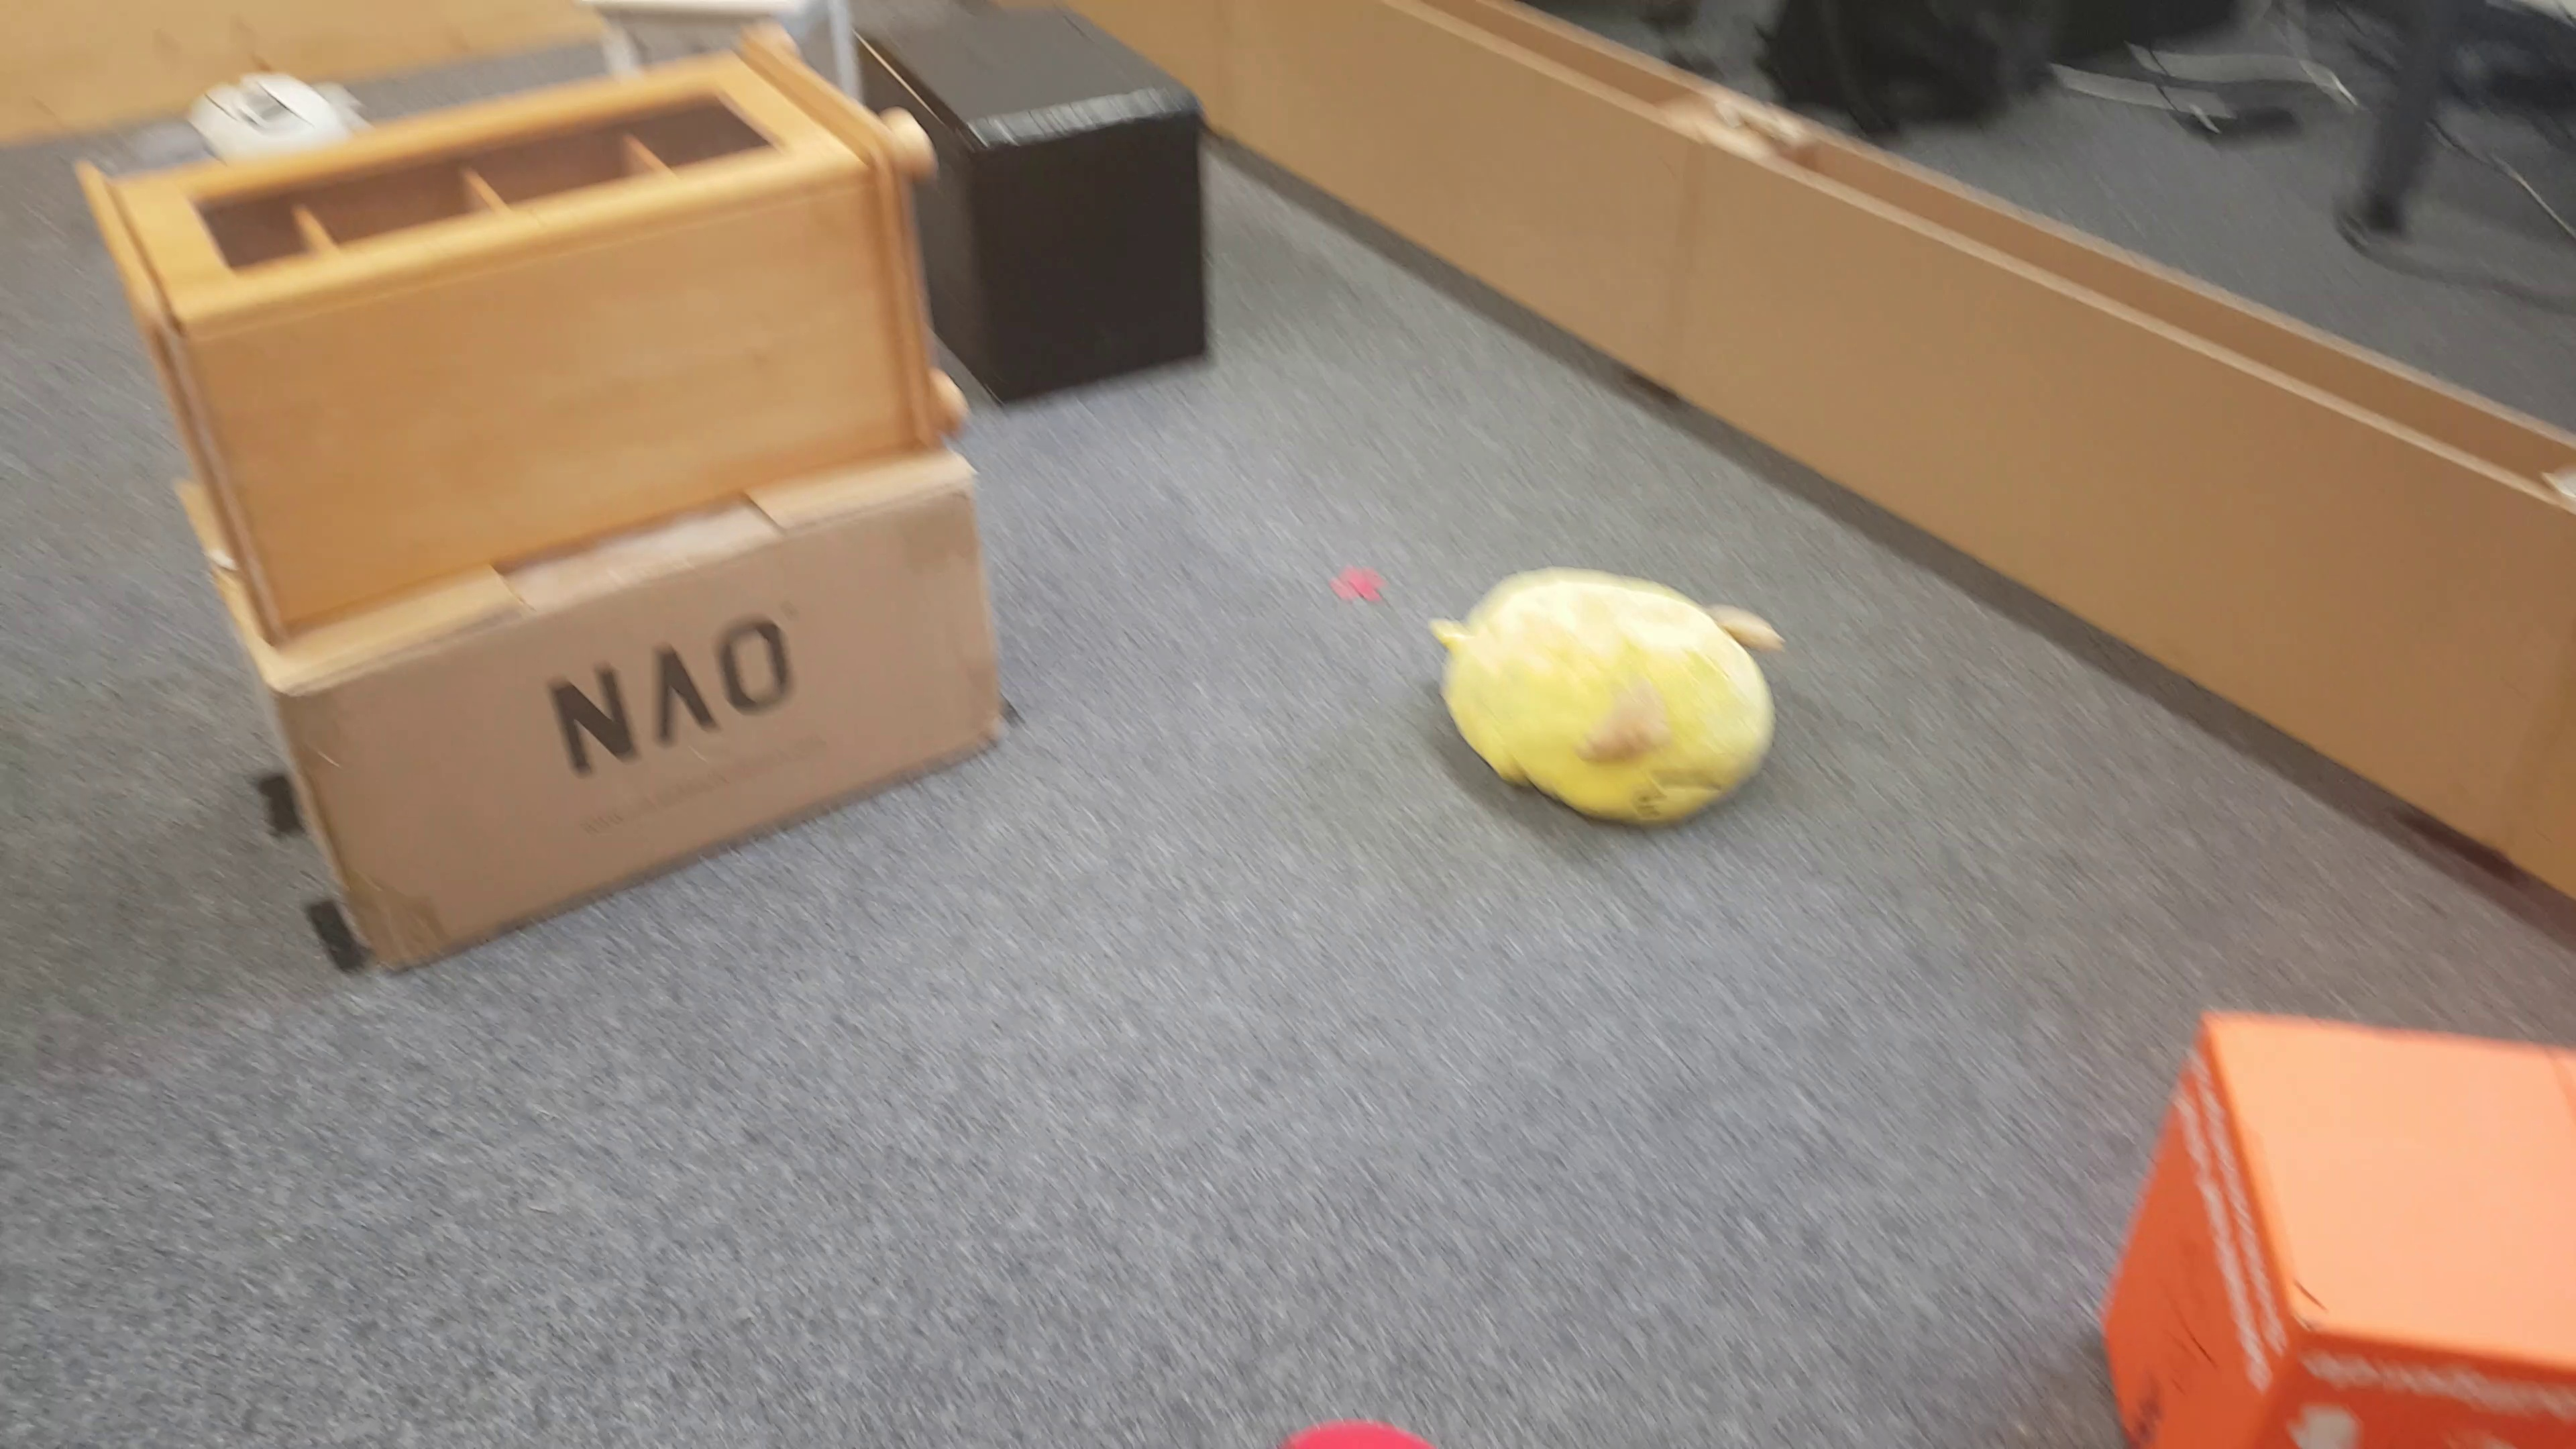grasp: (1424, 561, 1775, 839), (108, 78, 364, 142)
push: (2097, 1007, 2576, 1433), (938, 12, 1221, 407)
